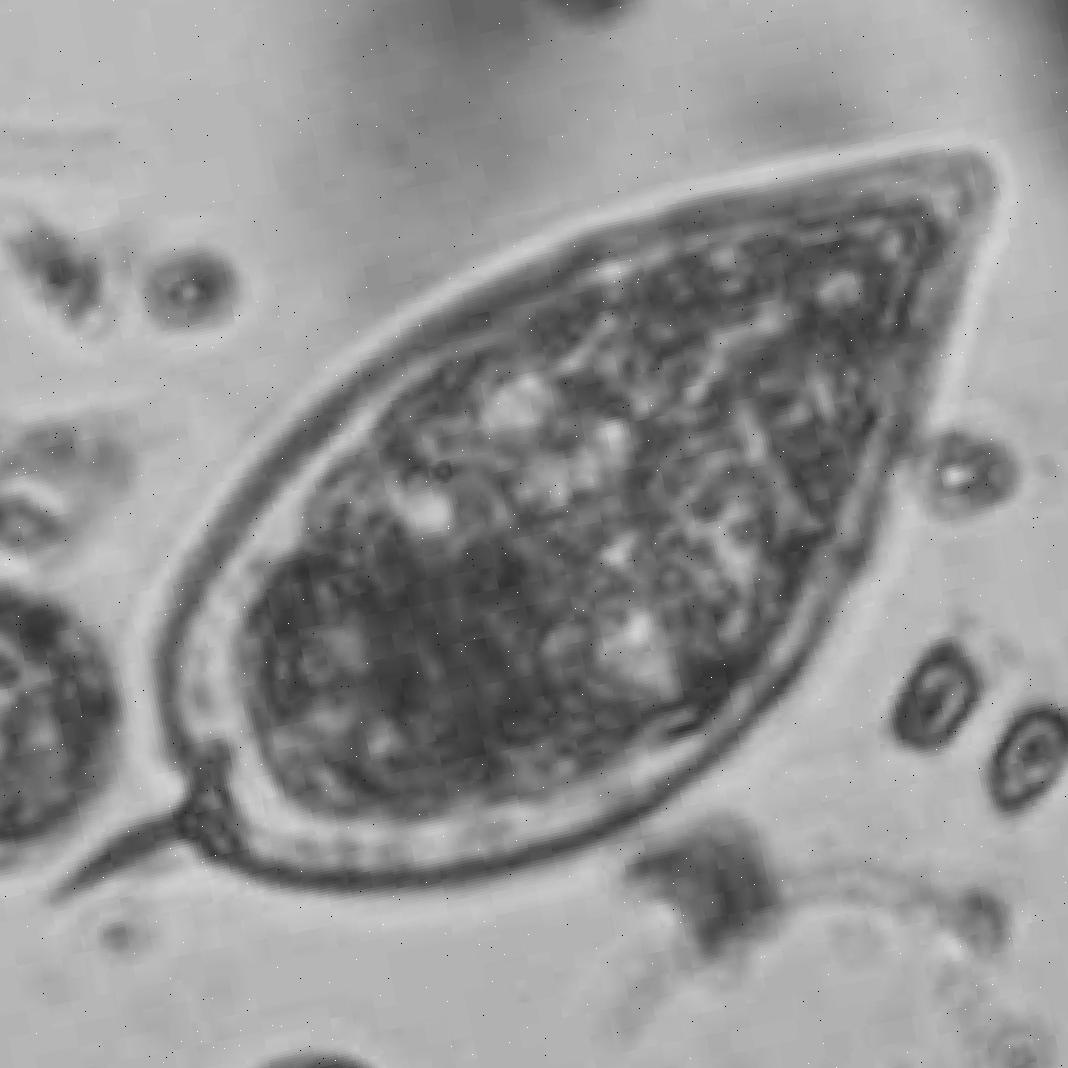prorocentrum_micans: (51, 150, 1002, 894)
